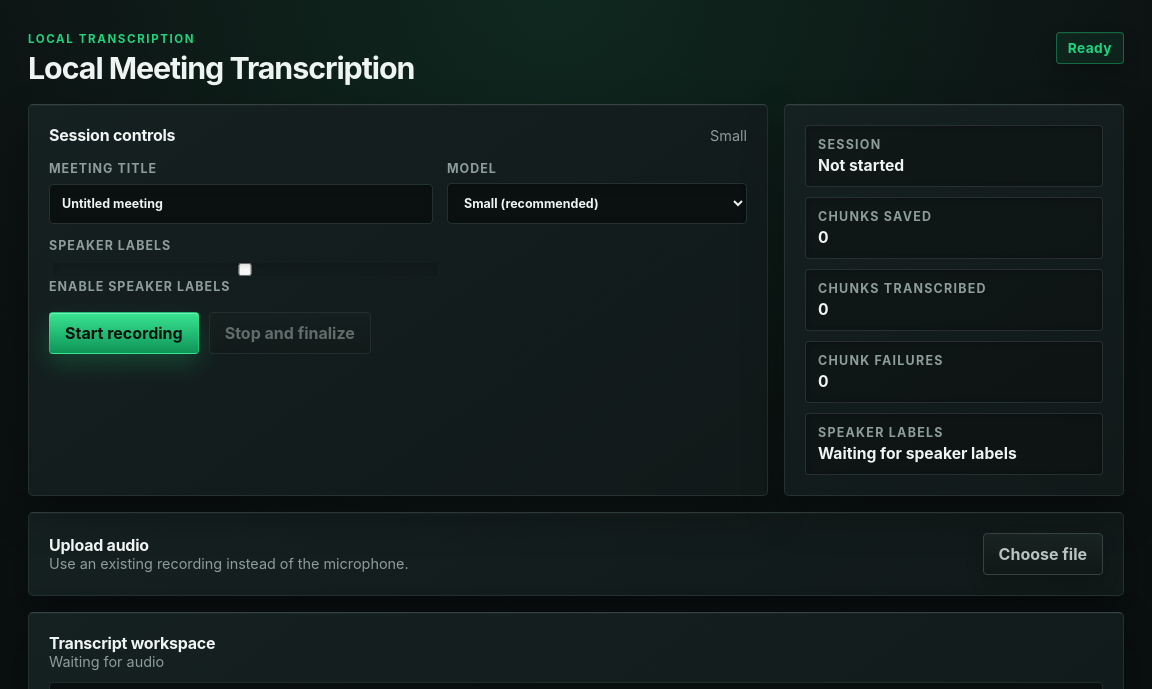
Test: App › shows an error when live session finalization fails
The image size is (1152, 689).
Click the button "Start recording". click: (124, 333)
box: [49,312,199,354]
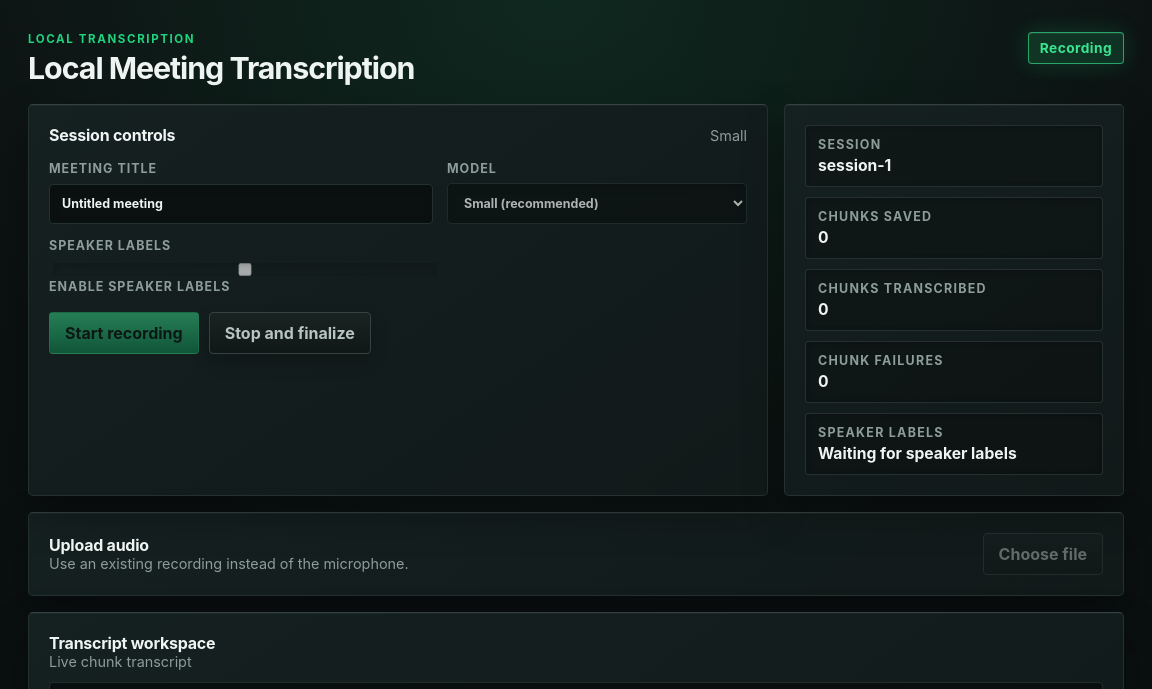
Click the button "Stop and finalize". click: (290, 333)
box: [209,312,371,354]
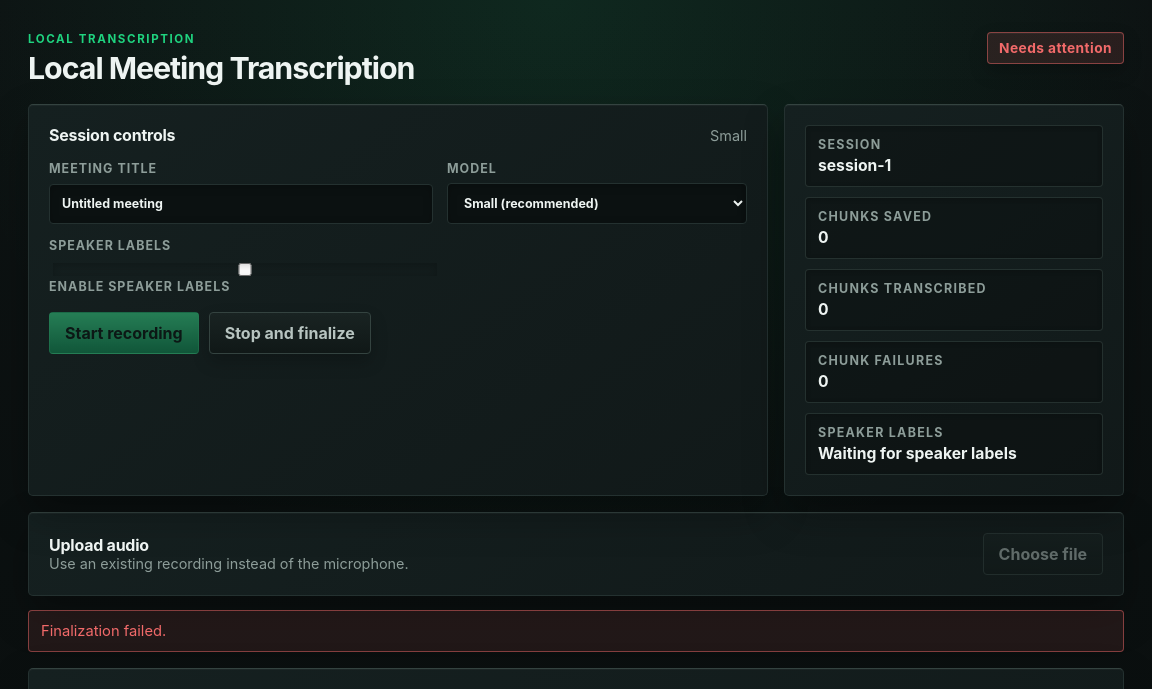
Expected: the message "Finalization failed." is shown, [28,610,1124,652]
Expected: the message "Needs attention" is shown, [987,32,1124,64]
